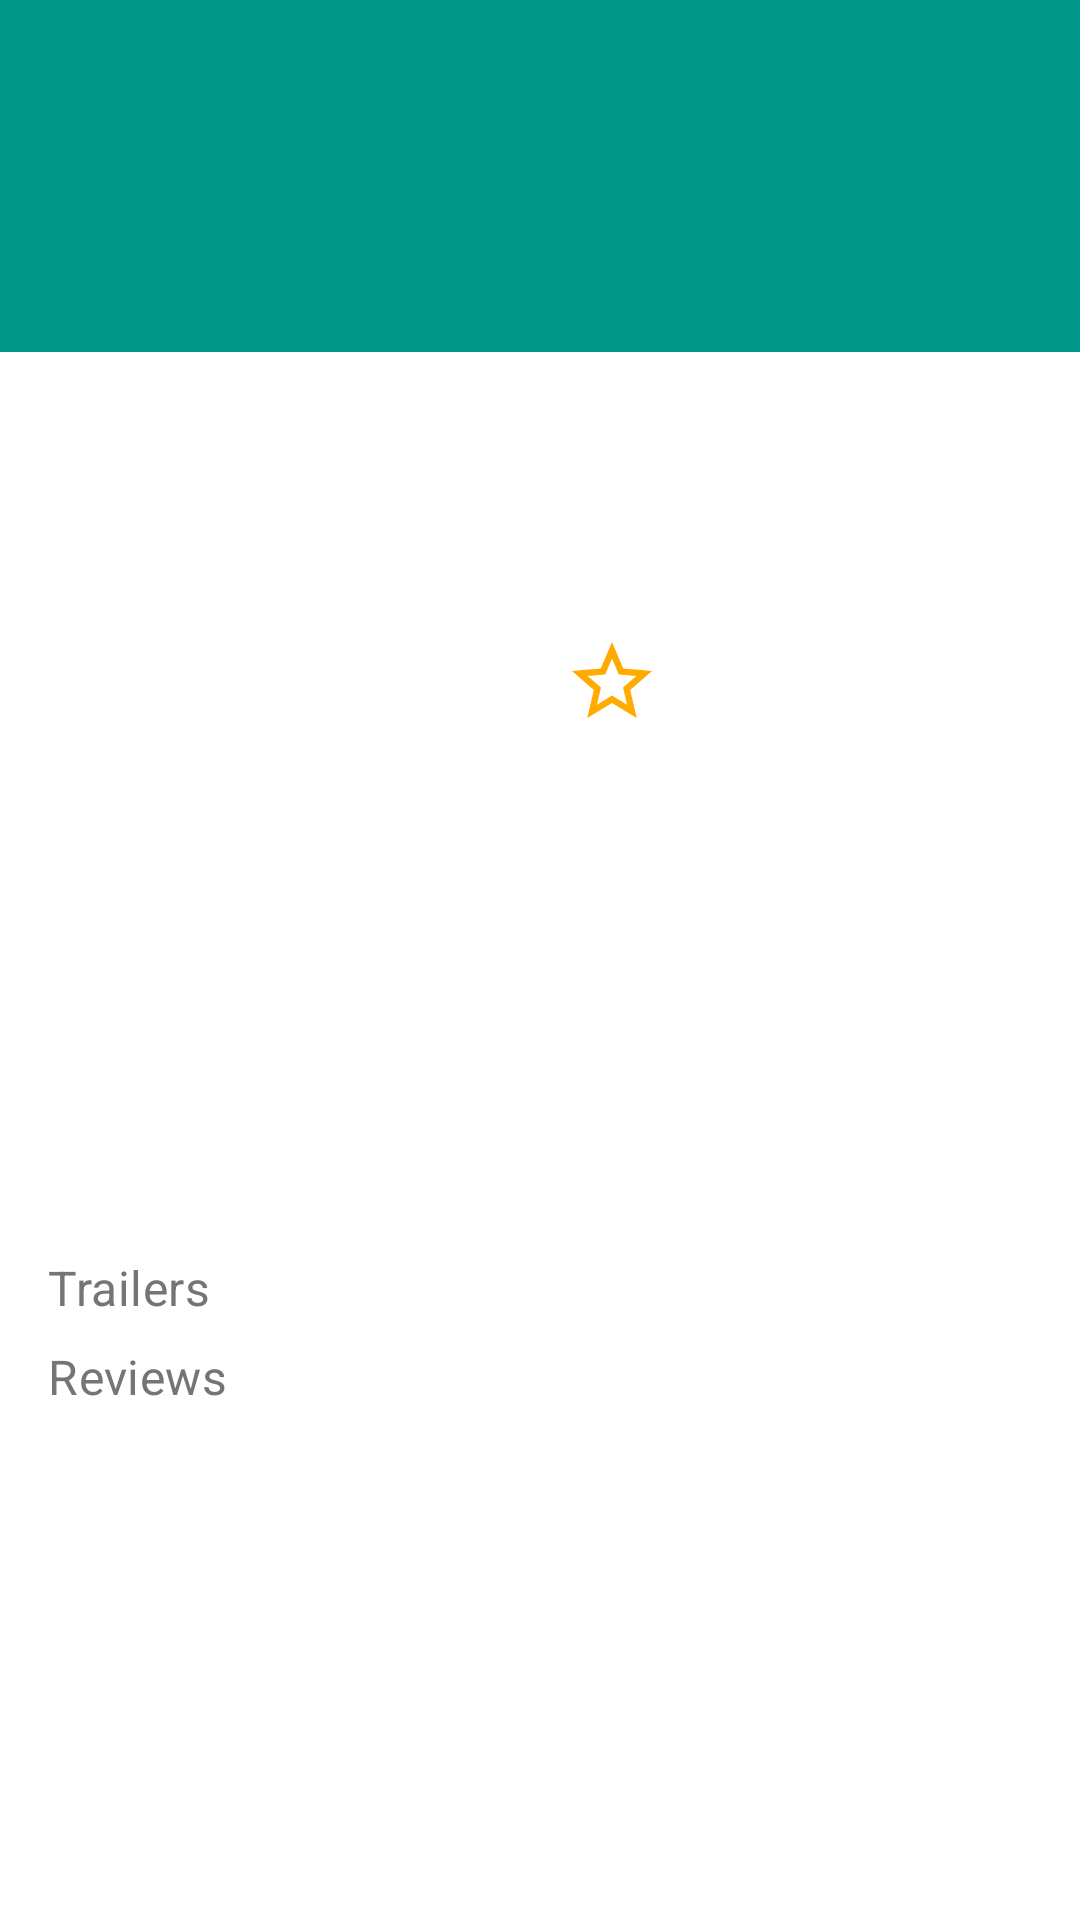

Icons on this 1080 x 1920 Android screen, each with the point to tap as (x=x, y=y):
Favorite star icon: (x=612, y=680)
